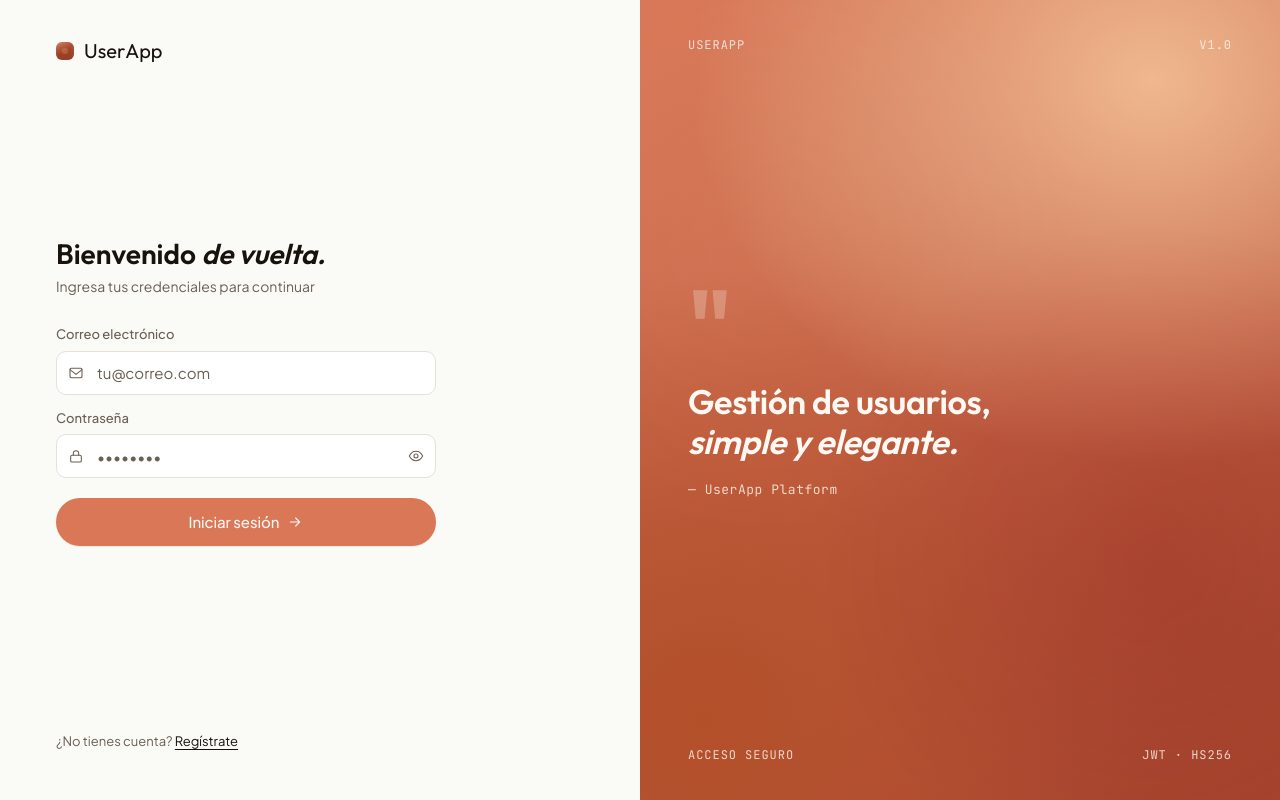
Test: LoginPage › shows server error on failed login
Step 1. Type "bad@demo.com" into the field labelled "Correo electrónico" → coordinates (246, 373), box [56, 351, 436, 395]
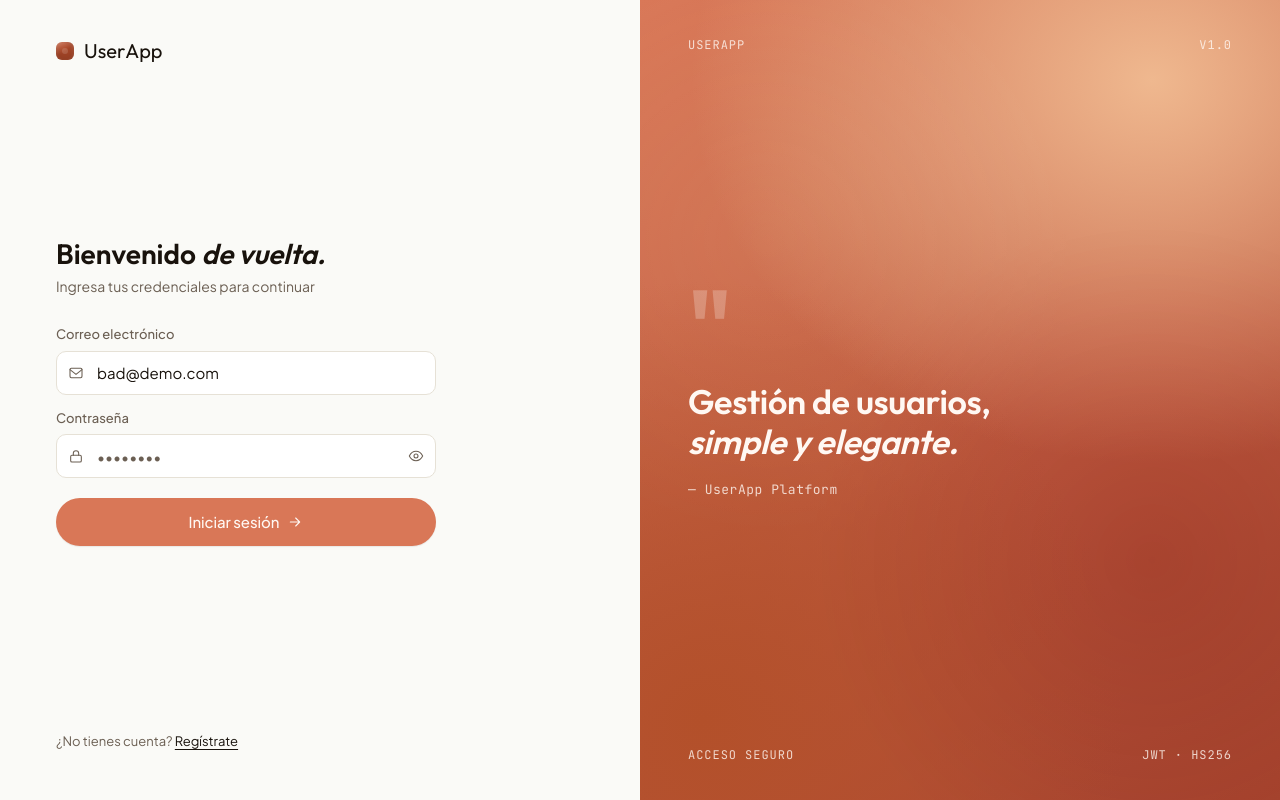
Step 2. Type "wrong" into the password field labelled "Contraseña" → coordinates (246, 456), box [56, 434, 436, 478]
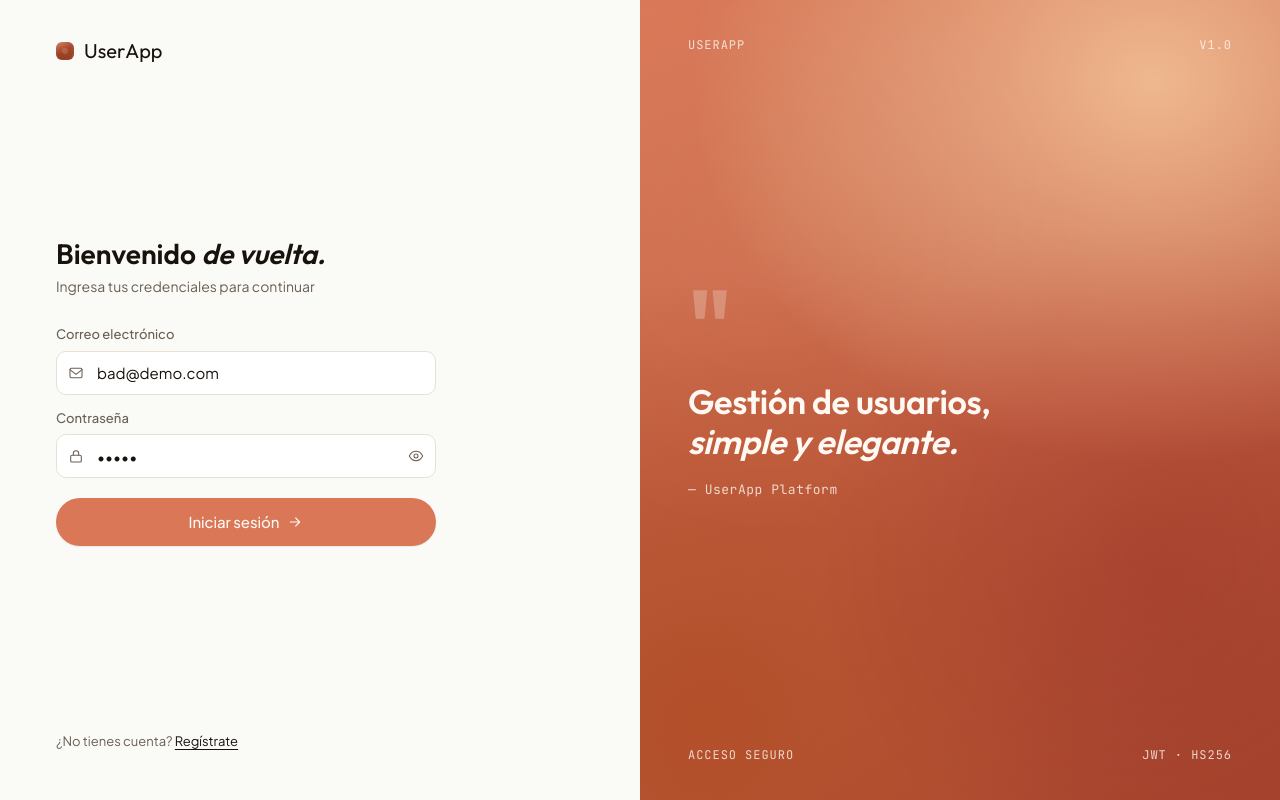
Step 3. Click the button "Iniciar sesión" → coordinates (246, 522), box [56, 498, 436, 546]
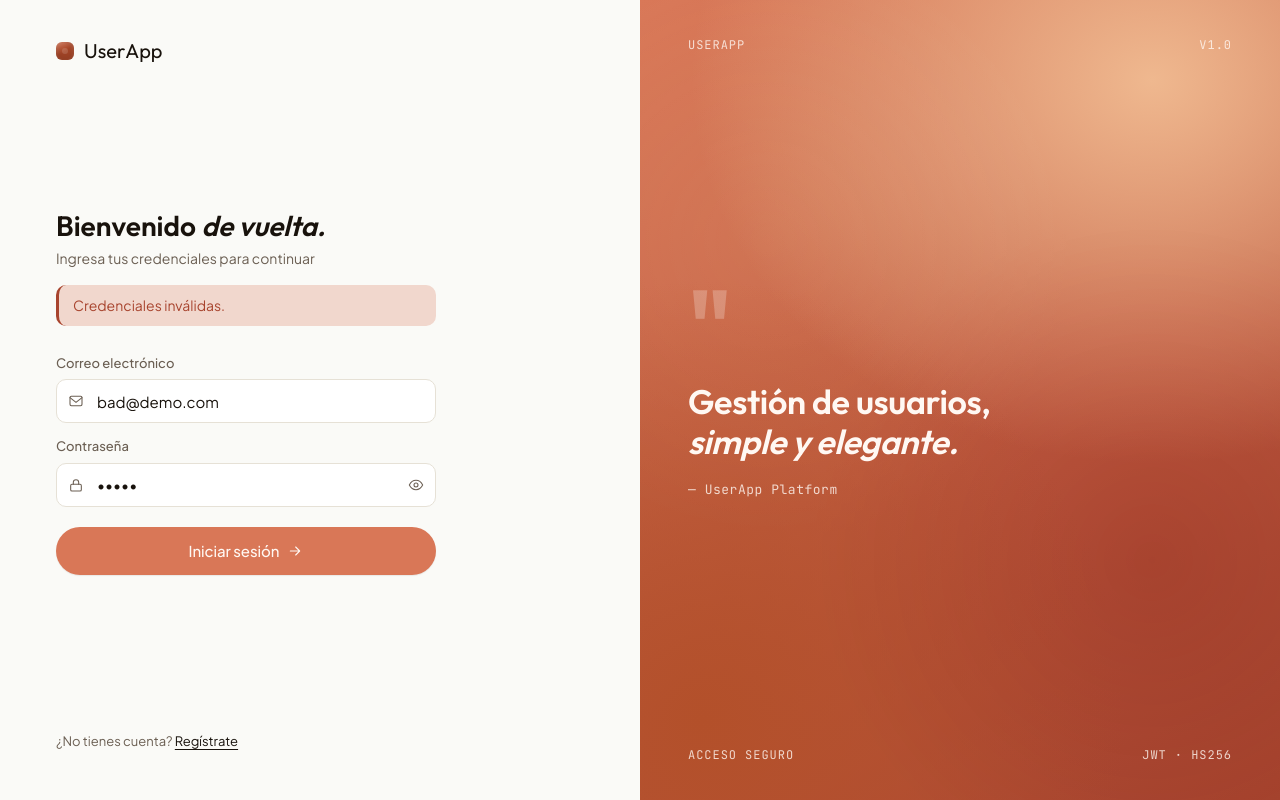
Now the message shows "Credenciales inválidas", box [73, 296, 225, 314]
